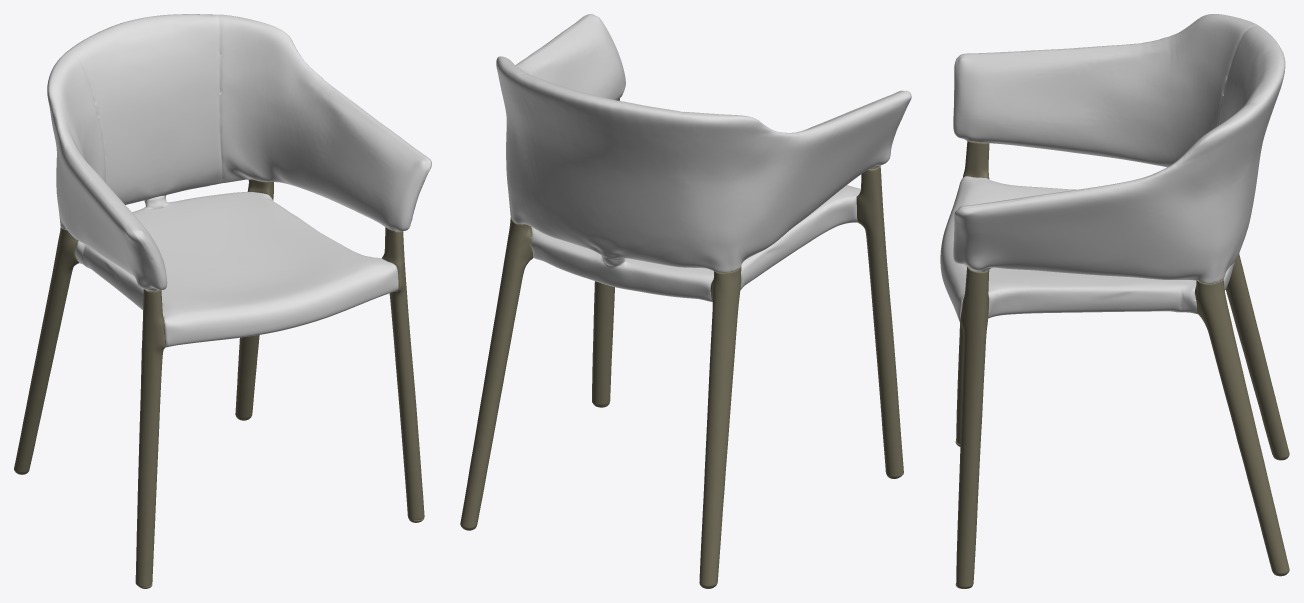
Rendered from SBH_PRETTY.glb.
3 renders of one model, left to right at view 1: azimuth 30°, elevation 25°; view 2: azimuth 150°, elevation 25°; view 3: azimuth 270°, elevation 25°, orthographic. The views are drawn at different scales.
Parts seen in each view (by area): view 1: PRETTY; view 2: PRETTY; view 3: PRETTY.
Part boxes in pixels (box(x1,y1,x2,y2)): PRETTY: box(14, 14, 431, 588); PRETTY: box(460, 14, 911, 588); PRETTY: box(940, 14, 1289, 588).
Size of the model in its own units: 0.5917 by 0.7957 by 0.5504.
